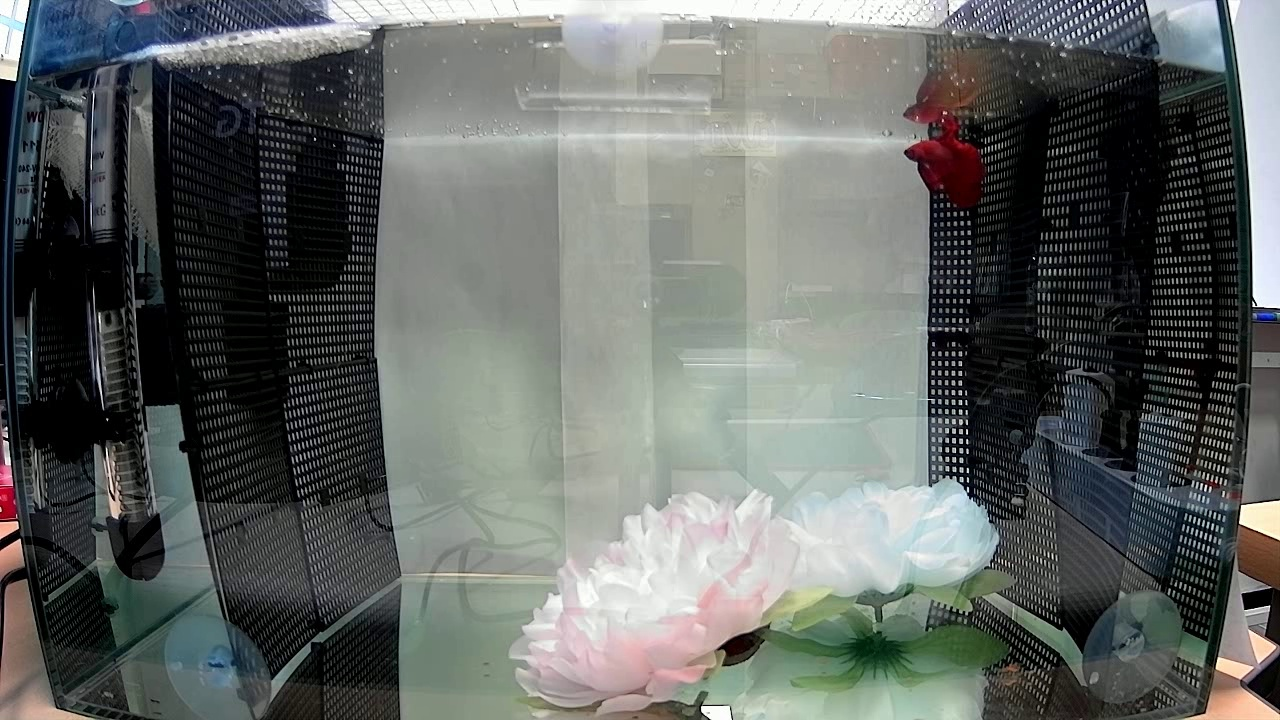fish: (903, 115, 984, 209)
